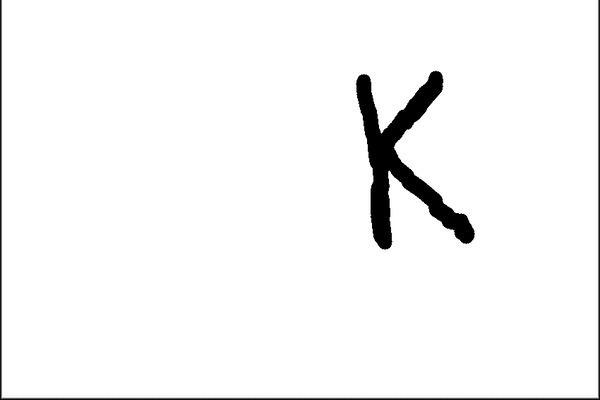K: (341, 59, 487, 254)
